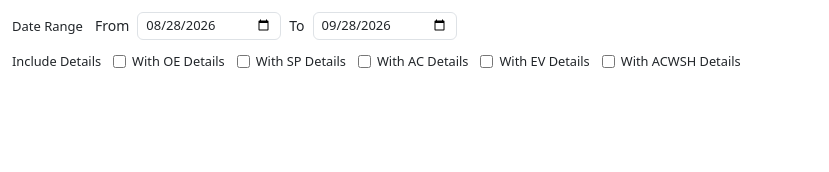
DealerLedgerFilterComponent › renders all five "include details" checkboxes and toggles selection count
Click the checkbox labelled "With OE Details" at (120,62), box [113,55,126,68]
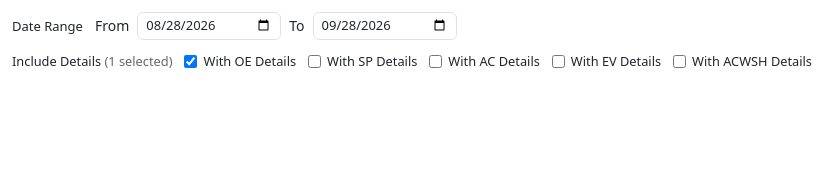
Check: the text "(1 selected)" is shown, box [104,52,172,70]
